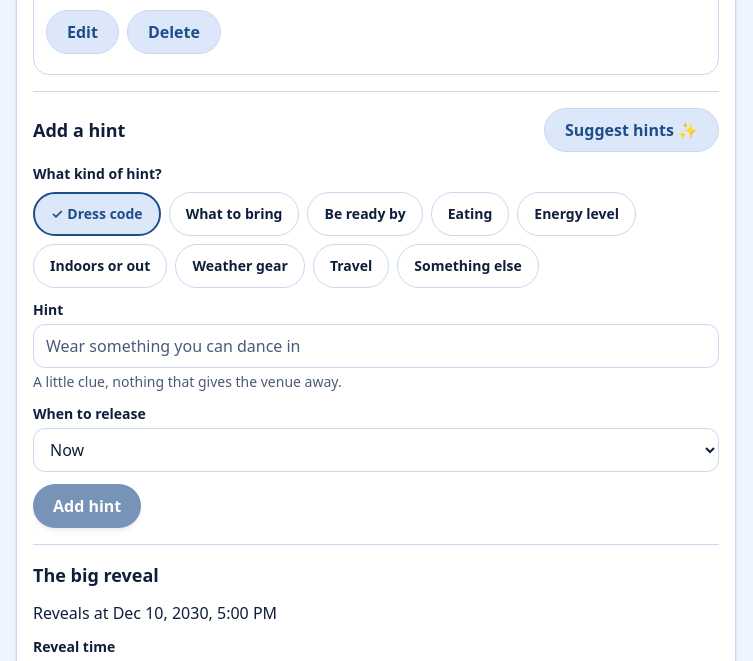
Test: SurpriseSection › does not submit a relative time that passed while the form was open
(page scrolled)
Check: the heading "Add a hint" is shown, box [33,116,125,144]
Type "Be ready" into the field labelled "Hint" at x=376, y=346, box [33,324,719,368]
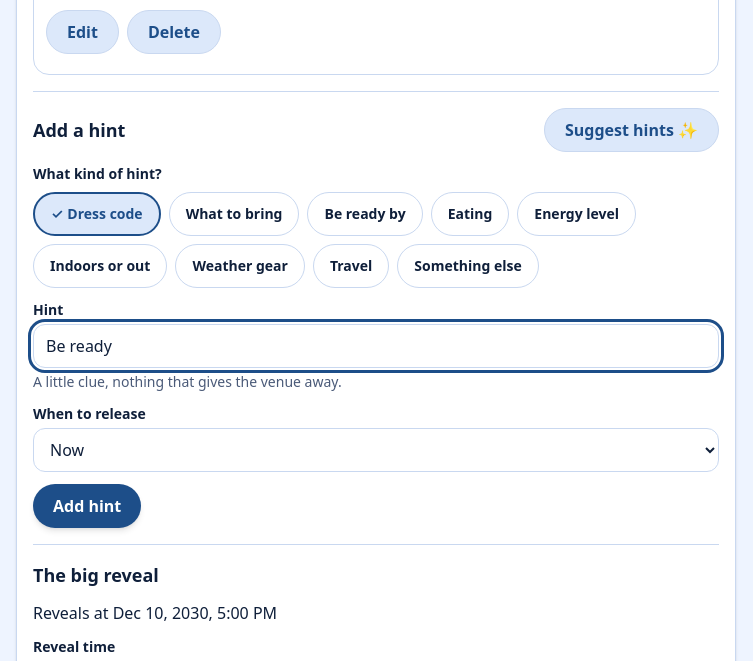
Select "2 hours before" in the dropdown labelled "When to release" at x=376, y=450, box [33,428,719,472]
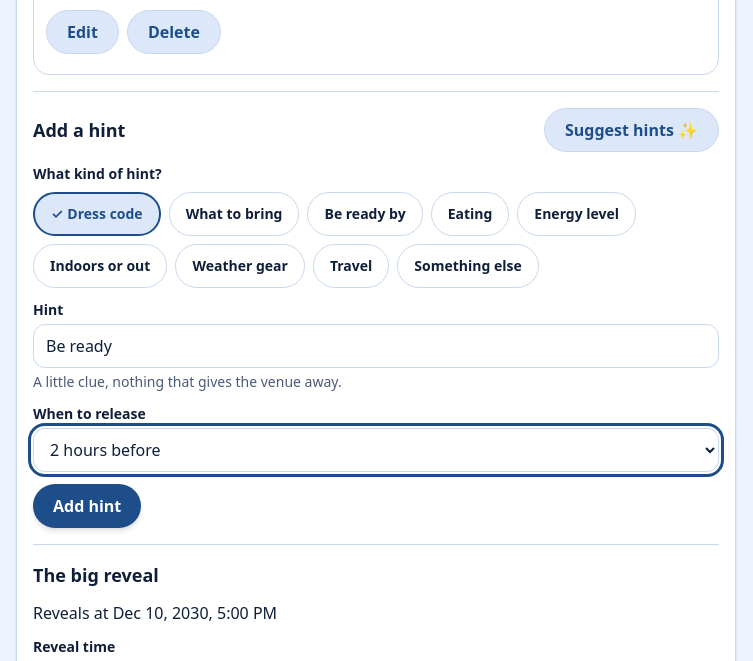
Click the button "Add hint" at x=87, y=506, box [33,484,141,528]
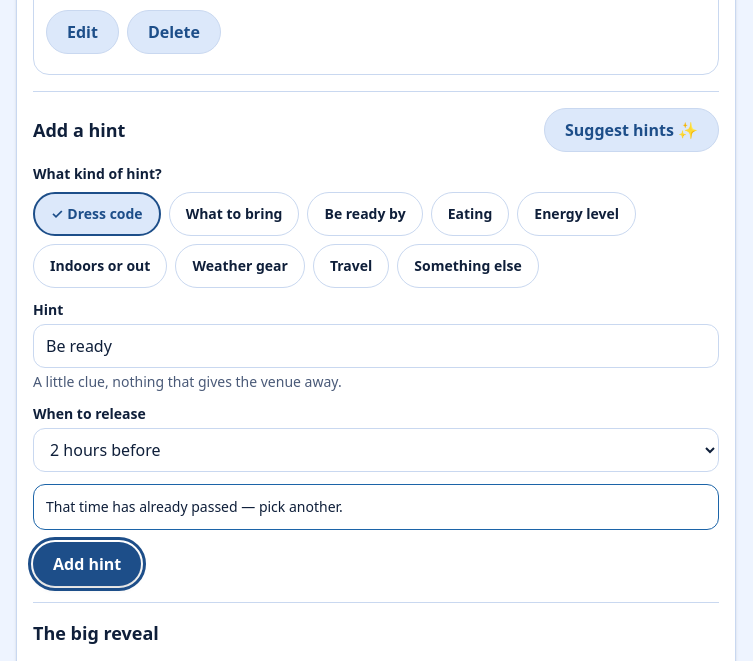
Check: the text "That time has already passed — pick another." is shown, box [33,484,719,530]
